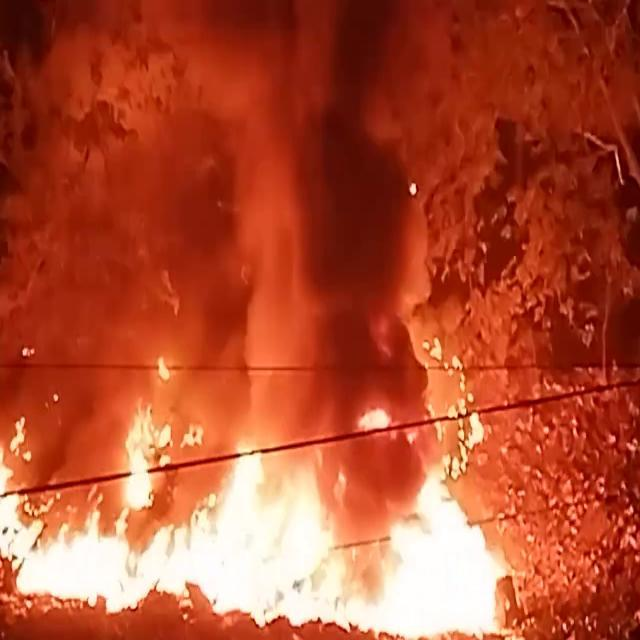Fire: (0, 383, 521, 636)
Smoke: (0, 0, 454, 430), (51, 0, 449, 384)
